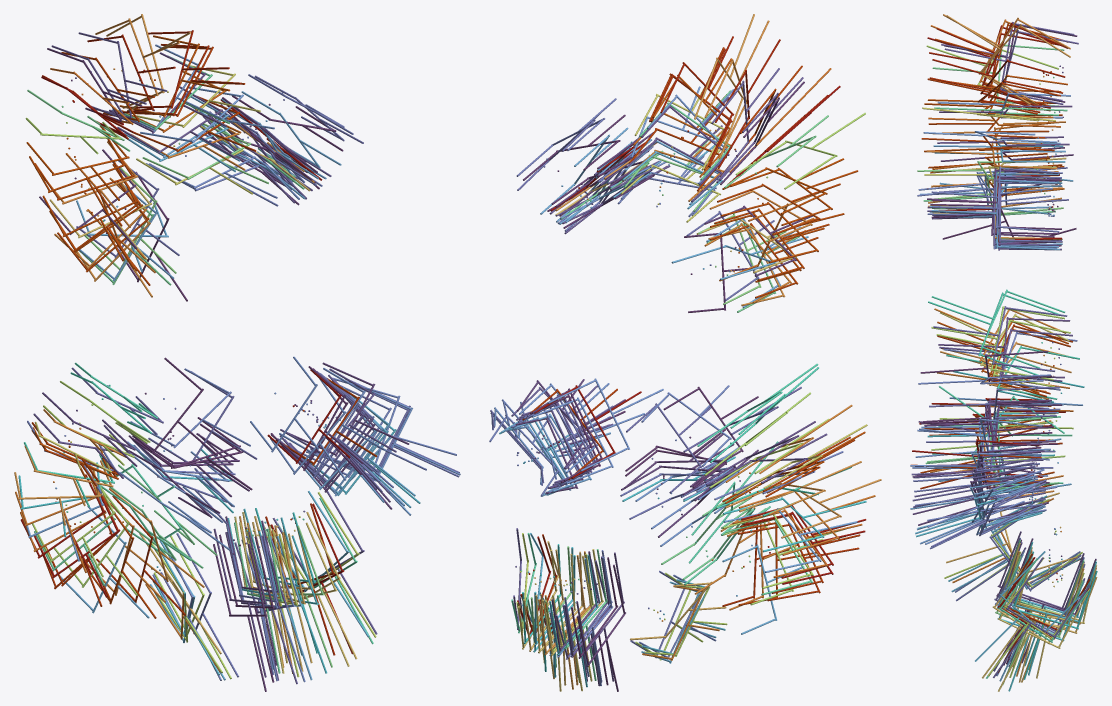
3 renders of one model, left to right at view 1: azimuth 30°, elevation 25°; view 2: azimuth 150°, elevation 25°; view 3: azimuth 270°, elevation 25°, orthographic. The views are drawn at different scales.
Visible parts, largest first — view 1: gripper_0104; view 2: gripper_0243; view 3: gripper_0152, gripper_0068, gripper_0099, gripper_0150, gripper_0125, gripper_0048, gripper_0079, gripper_0182, gripper_0051, gripper_0050, gripper_0072, gripper_0127 (+106 smaller).
Boxes of the visible parts, bbox=[...] form: gripper_0104: bbox=[213, 544, 267, 691]; gripper_0243: bbox=[547, 378, 663, 471]; gripper_0152: bbox=[932, 175, 1062, 242]; gripper_0068: bbox=[933, 306, 1067, 371]; gripper_0099: bbox=[931, 289, 1064, 368]; gripper_0150: bbox=[931, 166, 1062, 232]; gripper_0125: bbox=[993, 557, 1090, 677]; gripper_0048: bbox=[946, 15, 1070, 104]; gripper_0079: bbox=[929, 386, 1059, 419]; gripper_0182: bbox=[931, 179, 1062, 250]; gripper_0051: bbox=[928, 292, 1059, 374]; gripper_0050: bbox=[931, 306, 1064, 380]; gripper_0072: bbox=[920, 351, 1051, 381]; gripper_0127: bbox=[998, 564, 1088, 691].
Size of the model in its own units: 0.4608 by 0.7975 by 0.224.
